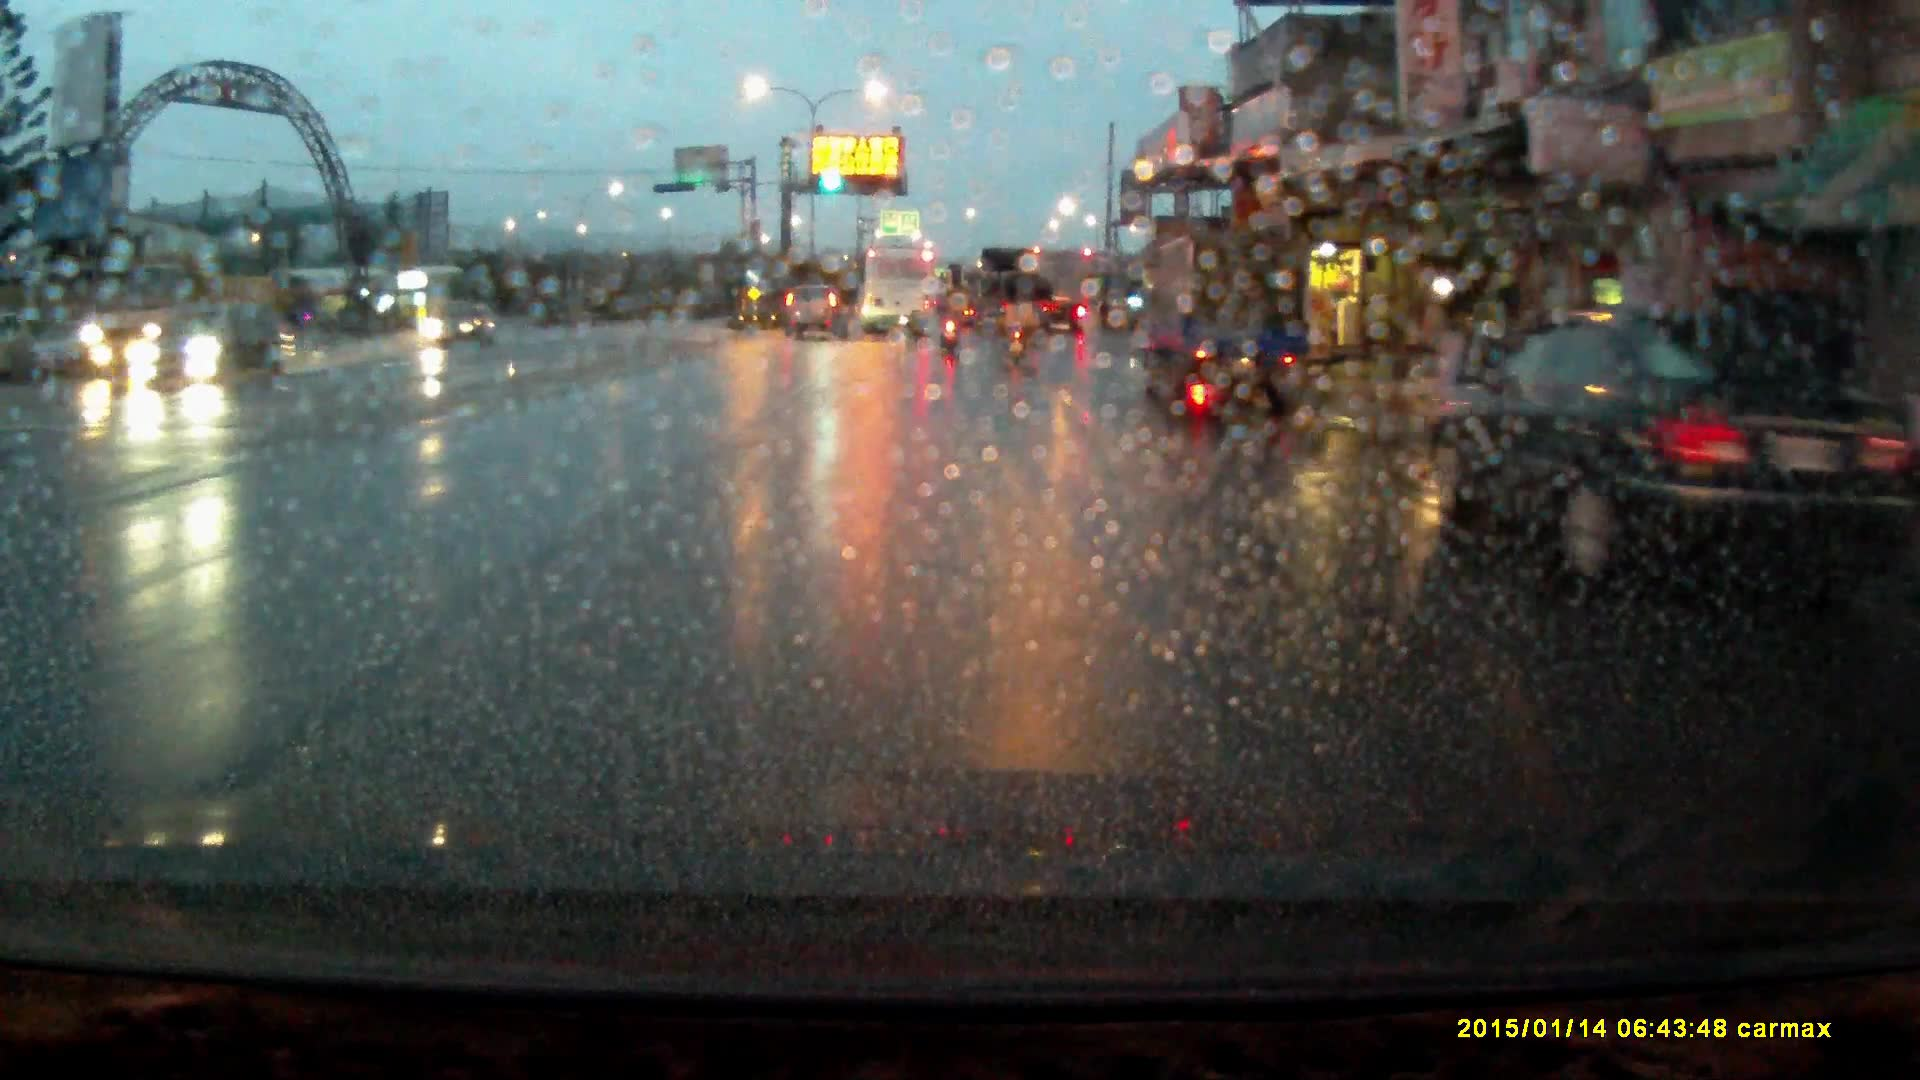rider: (999, 276, 1038, 360), (934, 278, 967, 345)
vehicle: (1418, 302, 1880, 584), (1138, 225, 1312, 394), (78, 253, 297, 373), (136, 311, 286, 395), (863, 244, 933, 336), (983, 249, 1050, 337), (414, 299, 498, 352), (784, 271, 850, 332)
